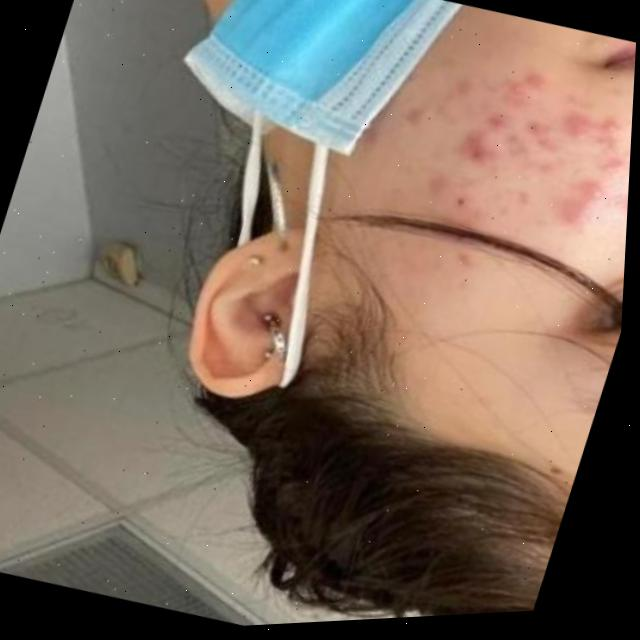Acne: (408, 39, 636, 264)
